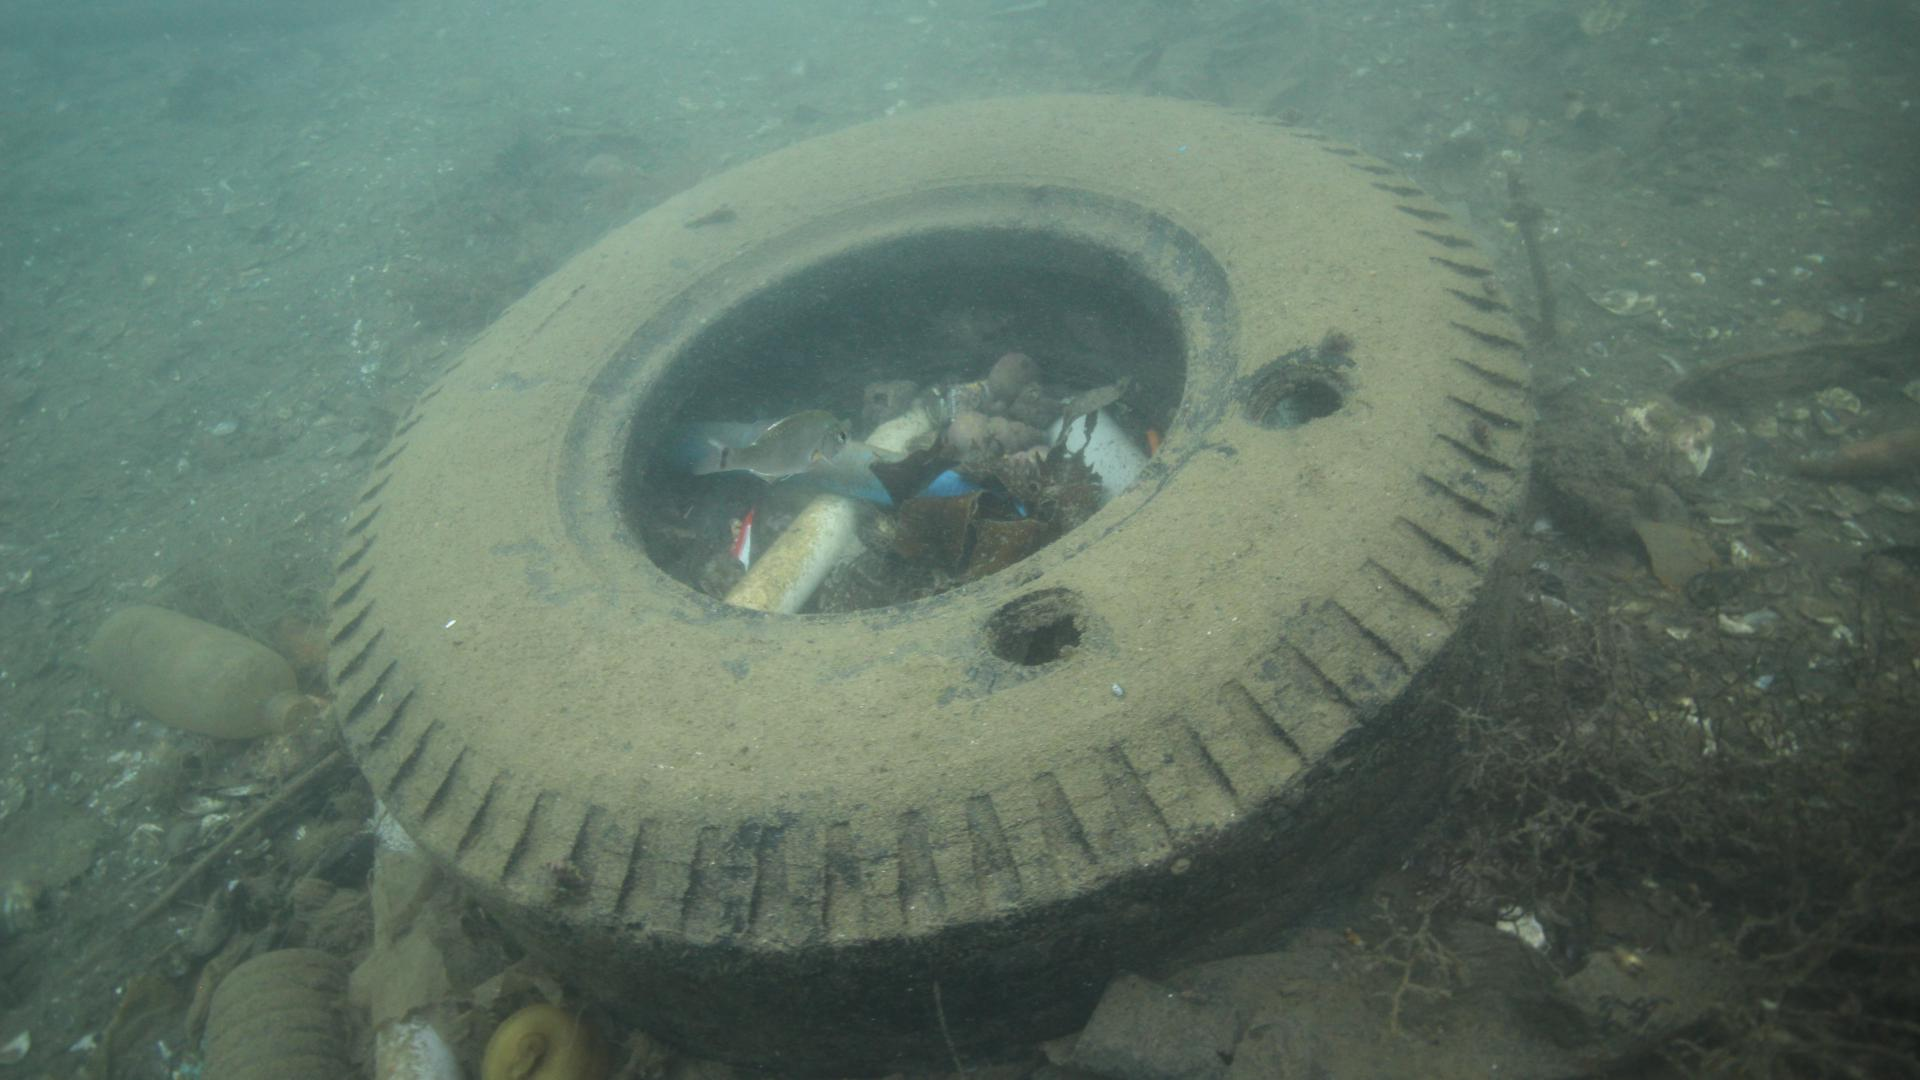tire: (323, 92, 1534, 1072)
